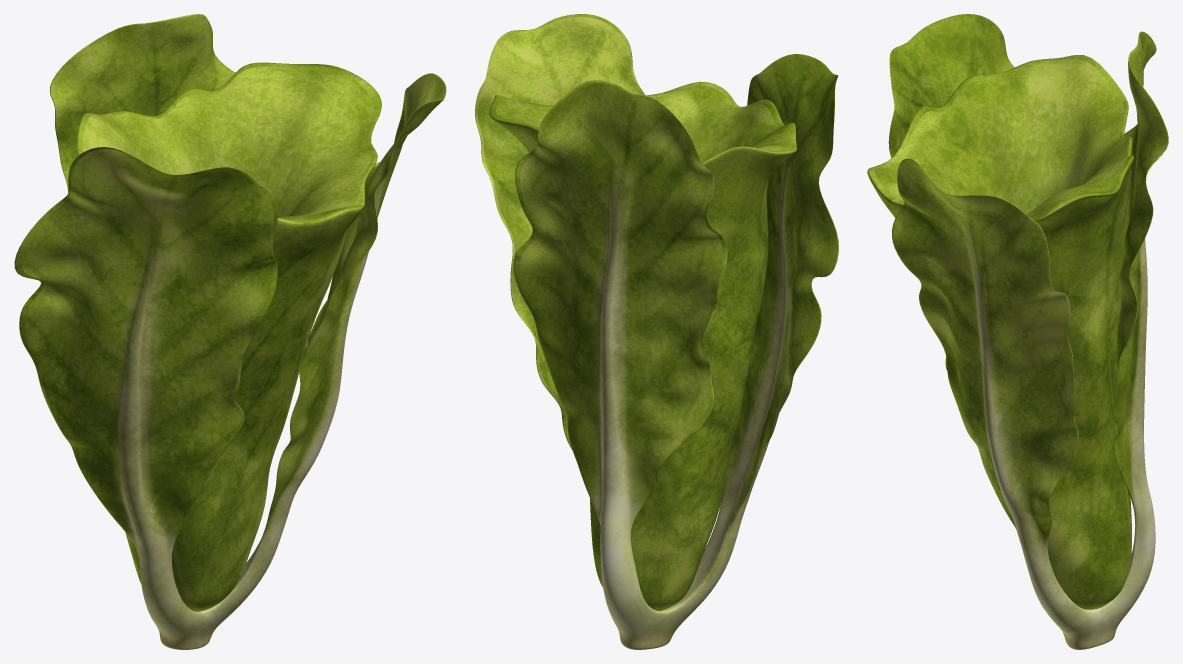
File: Salad.obj
3 views of the same model, side by side, from view 1: azimuth 30°, elevation 25°; view 2: azimuth 150°, elevation 25°; view 3: azimuth 270°, elevation 25° (orthographic). The views are drawn at different scales.
Visible parts, largest first — view 1: 10188_LettuceRomaine_v1-L2; view 2: 10188_LettuceRomaine_v1-L2; view 3: 10188_LettuceRomaine_v1-L2.
Part boxes in pixels (x1=…): 10188_LettuceRomaine_v1-L2: x1=14, y1=14, x2=446, y2=649; 10188_LettuceRomaine_v1-L2: x1=475, y1=14, x2=838, y2=649; 10188_LettuceRomaine_v1-L2: x1=867, y1=14, x2=1168, y2=649.
Bounding box in the file's own units: 24.45 × 36.46 × 16.84.
1 material, 1 textured.
